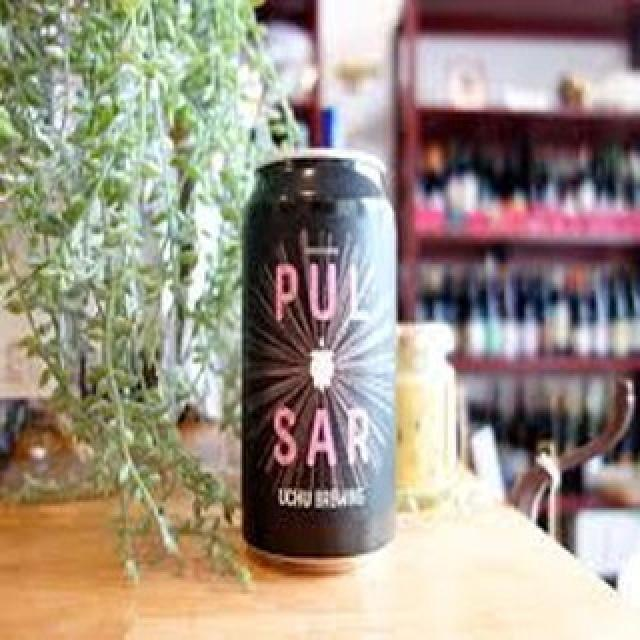can: (241, 148, 396, 575)
